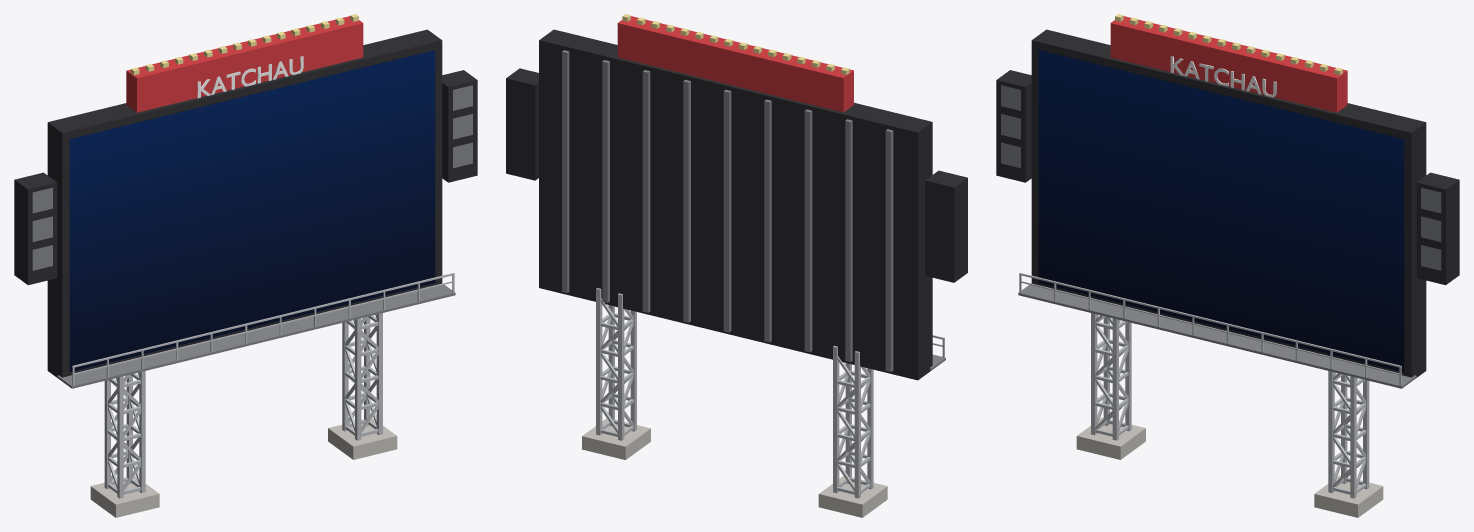
Rendered from telao.glb.
3 renders of one model, left to right at view 1: azimuth 30°, elevation 25°; view 2: azimuth 150°, elevation 25°; view 3: azimuth 330°, elevation 25°, orthographic.
Visible parts, largest first — view 1: tela, escuro, aco, vermelho, grade, concreto, lampada, t; view 2: escuro, grade, aco, vermelho, concreto, lampada; view 3: tela, escuro, aco, vermelho, grade, concreto, lampada, t.
Boxes of the visible parts, bbox=[...] form: tela: bbox=[69, 50, 435, 372]; escuro: bbox=[14, 29, 477, 377]; aco: bbox=[72, 273, 454, 498]; vermelho: bbox=[126, 16, 363, 112]; grade: bbox=[32, 85, 472, 388]; concreto: bbox=[90, 418, 397, 517]; lampada: bbox=[131, 14, 358, 75]; t: bbox=[197, 56, 303, 98]; escuro: bbox=[506, 29, 967, 380]; grade: bbox=[562, 50, 945, 371]; aco: bbox=[596, 288, 944, 498]; vermelho: bbox=[617, 16, 853, 112]; concreto: bbox=[582, 418, 887, 517]; lampada: bbox=[622, 14, 849, 75]; tela: bbox=[1038, 50, 1404, 372]; escuro: bbox=[996, 29, 1459, 377]; aco: bbox=[1019, 273, 1401, 498]; vermelho: bbox=[1110, 16, 1347, 112]; grade: bbox=[1001, 85, 1441, 388]; concreto: bbox=[1076, 417, 1383, 517]; lampada: bbox=[1115, 14, 1342, 75]; t: bbox=[1170, 56, 1276, 97].
Bounding box in the file's own units: 24.6 × 22.62 × 3.1.
8 materials, 1 textured.
